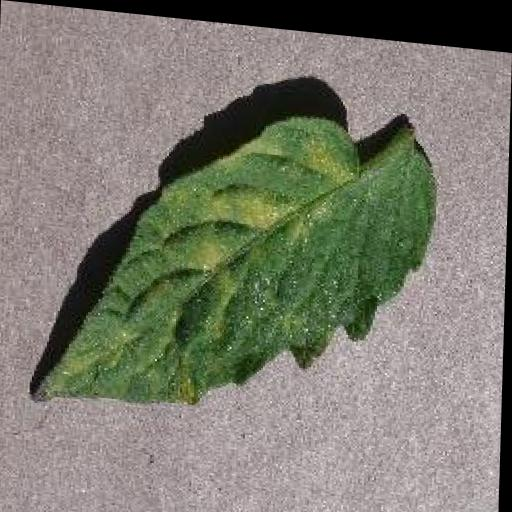Leaf Mold: (29, 88, 441, 427)
